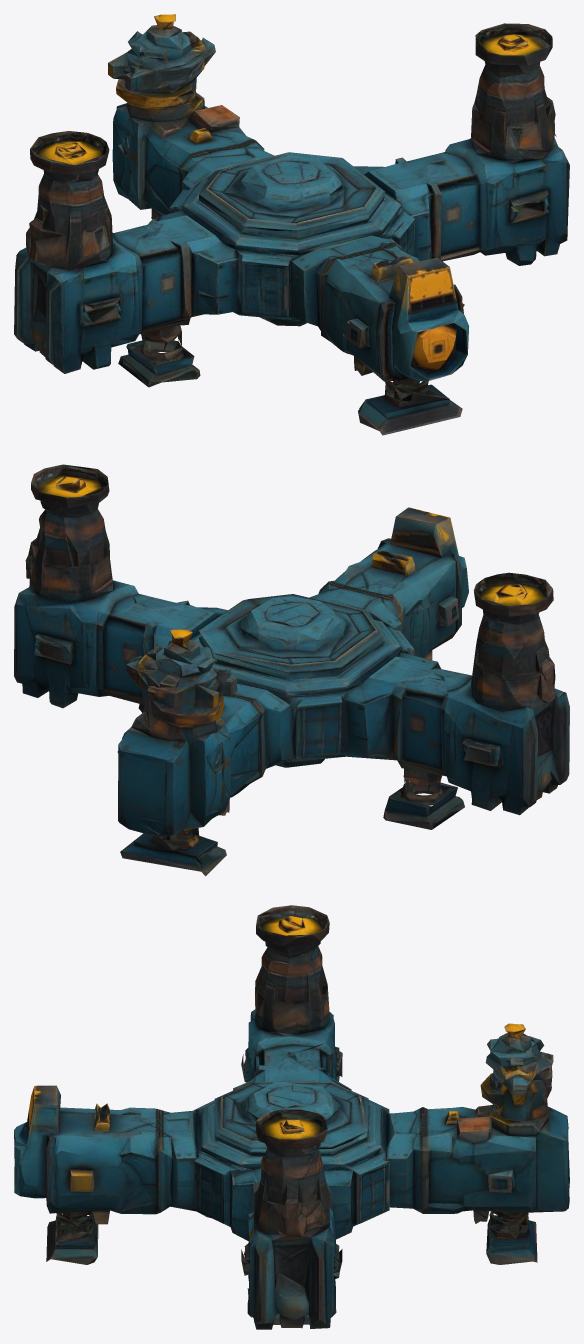
File: nation-g-fortress.glb
The picture shows the model from 3 angles, top to bottom: view 1: azimuth 30°, elevation 25°; view 2: azimuth 150°, elevation 25°; view 3: azimuth 270°, elevation 25°; orthographic projection. The views are drawn at different scales.
Bounding box in the file's own units: 1.9 × 0.859 × 1.87.
1 material, 1 textured.
